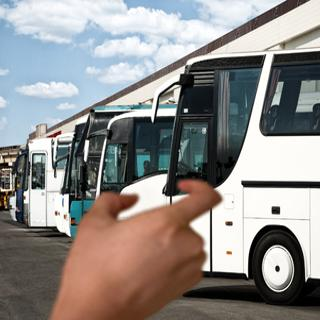HATE: (42, 174, 231, 320)
